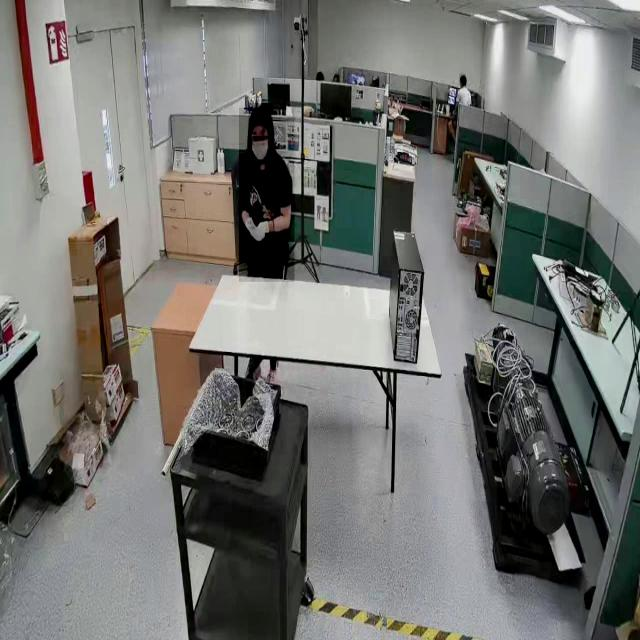face_mask: (248, 136, 268, 164)
hand_glove: (242, 206, 275, 263)
head_nohelmet: (249, 103, 273, 127), (459, 74, 466, 81)
person: (239, 108, 295, 282)
